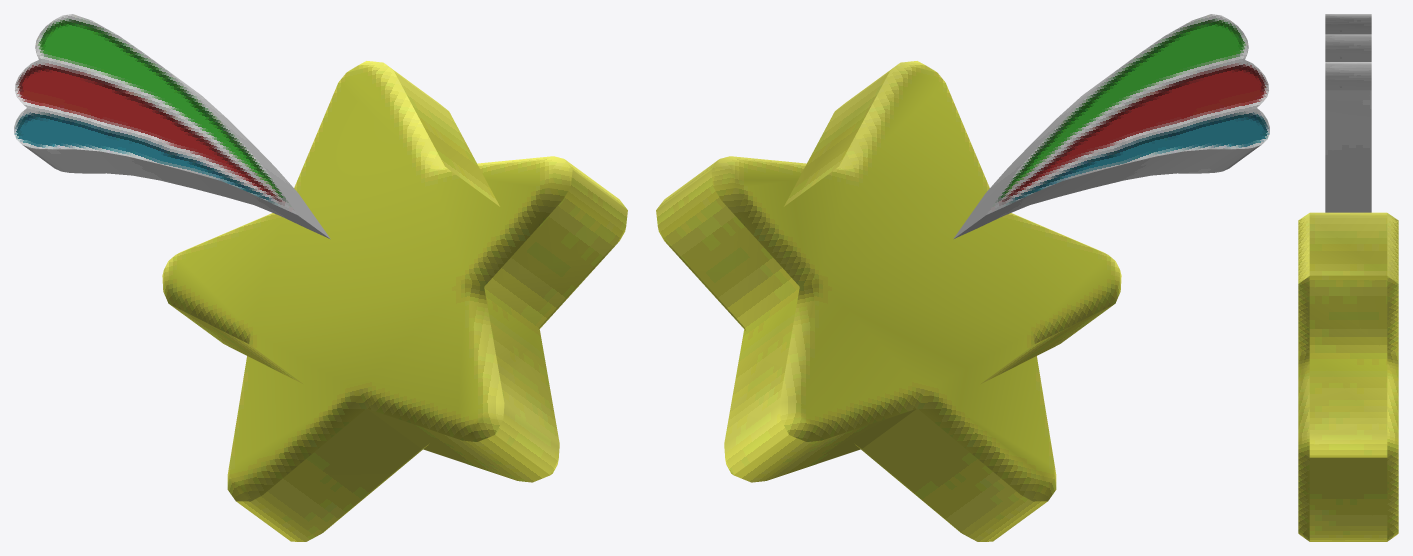
Rendered from ps2_save-icons_simple2000series-hellokittyvol1-starlightpuzzle-isogashicubedossunfuwawa.glb.
The picture shows the model from 3 angles, left to right: view 1: azimuth 30°, elevation 25°; view 2: azimuth 150°, elevation 25°; view 3: azimuth 270°, elevation 25°; orthographic projection. The views are drawn at different scales.
Parts seen in each view (by area): view 1: icon.ico; view 2: icon.ico; view 3: icon.ico.
Boxes of the visible parts, bbox=[...] form: icon.ico: bbox=[14, 14, 627, 541]; icon.ico: bbox=[656, 14, 1269, 541]; icon.ico: bbox=[1298, 14, 1398, 541].
Size of the model in its own units: 3.87 by 3.52 by 0.8447.
Materials: 1 (1 with a texture image).
